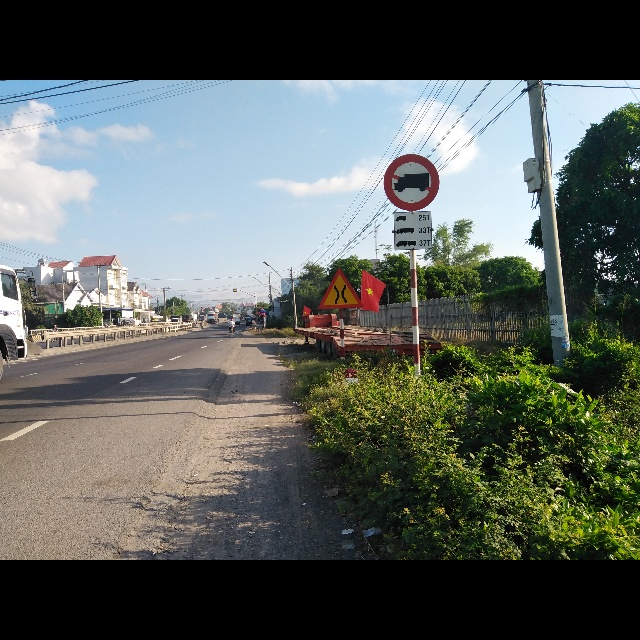Cấm xe tải: (384, 152, 441, 209)
Cầu hẹp: (317, 268, 363, 310)
